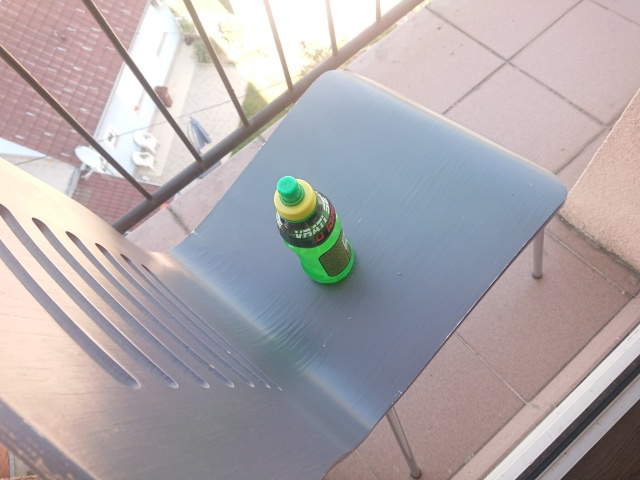Vindi Iso Sport Lemon-Grapefruit 500mL: (270, 173, 358, 287)
